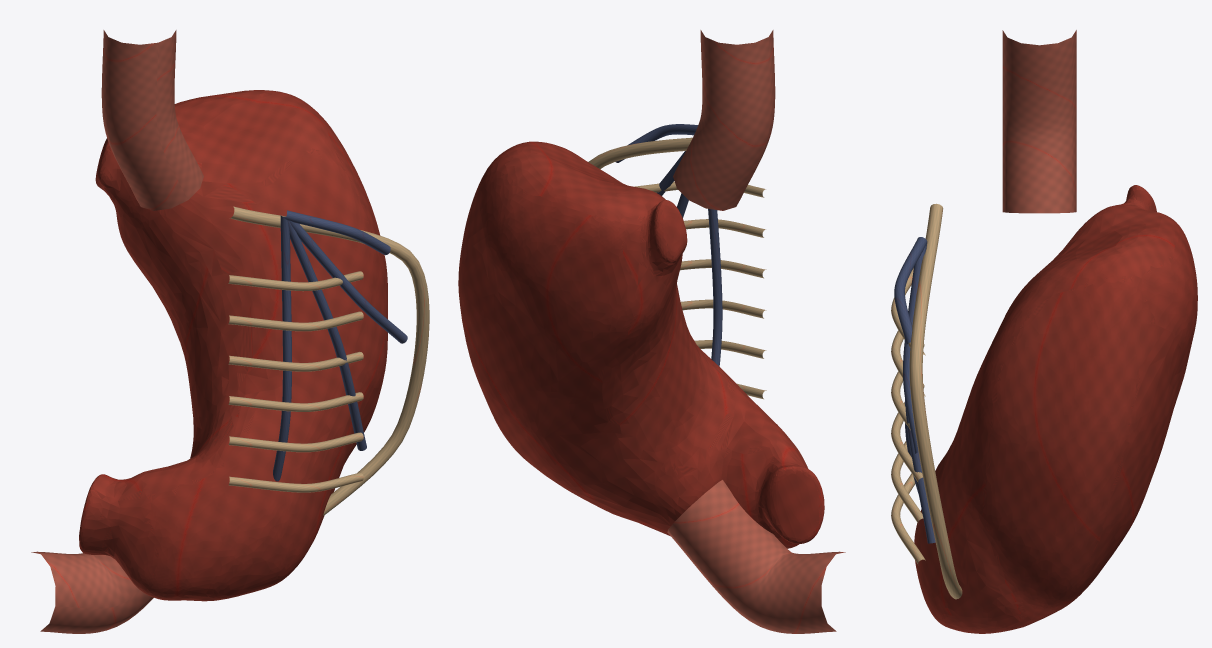
The model's file is stomach.8f5fb3a6.glb.
3 renders of one model, left to right at view 1: azimuth 30°, elevation 25°; view 2: azimuth 150°, elevation 25°; view 3: azimuth 270°, elevation 25°, orthographic.
Visible parts, largest first — view 1: Stomach body, procedural-stomach-surface-1, procedural-stomach-surface-2, procedural-stomach-surface-3, procedural-stomach-surface-13, procedural-stomach-surface-12, procedural-stomach-surface-11, procedural-stomach-surface-5, procedural-stomach-surface-8, procedural-stomach-surface-9, procedural-stomach-surface-7, procedural-stomach-surface-6 (+2 smaller); view 2: Stomach body, procedural-stomach-surface-2, procedural-stomach-surface-1, procedural-stomach-surface-13, procedural-stomach-surface-3, procedural-stomach-surface-6, procedural-stomach-surface-7, procedural-stomach-surface-5, procedural-stomach-surface-10, procedural-stomach-surface-8; view 3: Stomach body, procedural-stomach-surface-1, procedural-stomach-surface-3, procedural-stomach-surface-10, procedural-stomach-surface-11, procedural-stomach-surface-12, procedural-stomach-surface-9, procedural-stomach-surface-8, procedural-stomach-surface-7, procedural-stomach-surface-6.
Part boxes in pixels (x1,y1,x2,y2): Stomach body: [79, 90, 387, 601]; procedural-stomach-surface-1: [101, 30, 203, 210]; procedural-stomach-surface-2: [31, 551, 153, 633]; procedural-stomach-surface-3: [230, 206, 429, 515]; procedural-stomach-surface-13: [273, 215, 291, 481]; procedural-stomach-surface-12: [284, 217, 366, 450]; procedural-stomach-surface-11: [284, 218, 407, 343]; procedural-stomach-surface-5: [228, 311, 363, 331]; procedural-stomach-surface-8: [228, 432, 363, 452]; procedural-stomach-surface-9: [228, 472, 363, 492]; procedural-stomach-surface-7: [228, 392, 363, 411]; procedural-stomach-surface-6: [228, 351, 363, 371]; Stomach body: [458, 141, 824, 548]; procedural-stomach-surface-2: [667, 480, 845, 633]; procedural-stomach-surface-1: [673, 30, 775, 210]; procedural-stomach-surface-13: [708, 209, 722, 366]; procedural-stomach-surface-3: [588, 137, 692, 169]; procedural-stomach-surface-6: [680, 259, 766, 278]; procedural-stomach-surface-7: [680, 299, 766, 318]; procedural-stomach-surface-5: [683, 219, 765, 237]; procedural-stomach-surface-10: [615, 124, 698, 162]; procedural-stomach-surface-8: [694, 340, 766, 358]; Stomach body: [914, 185, 1197, 633]; procedural-stomach-surface-1: [1002, 30, 1076, 213]; procedural-stomach-surface-3: [909, 203, 962, 599]; procedural-stomach-surface-10: [894, 237, 927, 344]; procedural-stomach-surface-11: [903, 243, 927, 453]; procedural-stomach-surface-12: [905, 402, 935, 543]; procedural-stomach-surface-9: [891, 473, 925, 563]; procedural-stomach-surface-8: [891, 441, 923, 522]; procedural-stomach-surface-7: [891, 383, 924, 481]; procedural-stomach-surface-6: [891, 344, 924, 430].
Size of the model in its own units: 2.07 by 3.21 by 1.49.
Materials: 4 (4 with a texture image).
